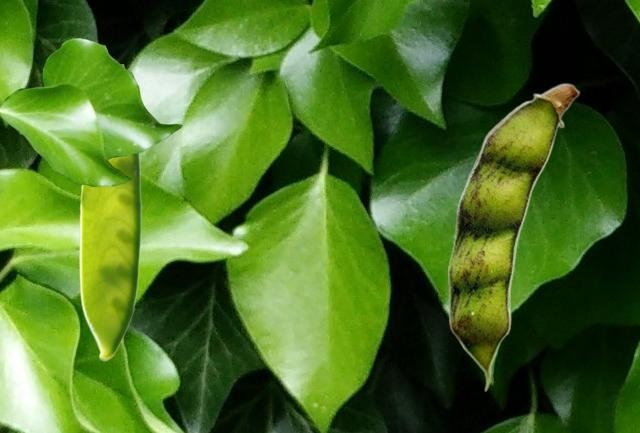pea: (448, 82, 579, 391), (79, 64, 141, 360)
